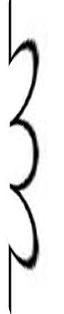inductor: (0, 26, 49, 277)
